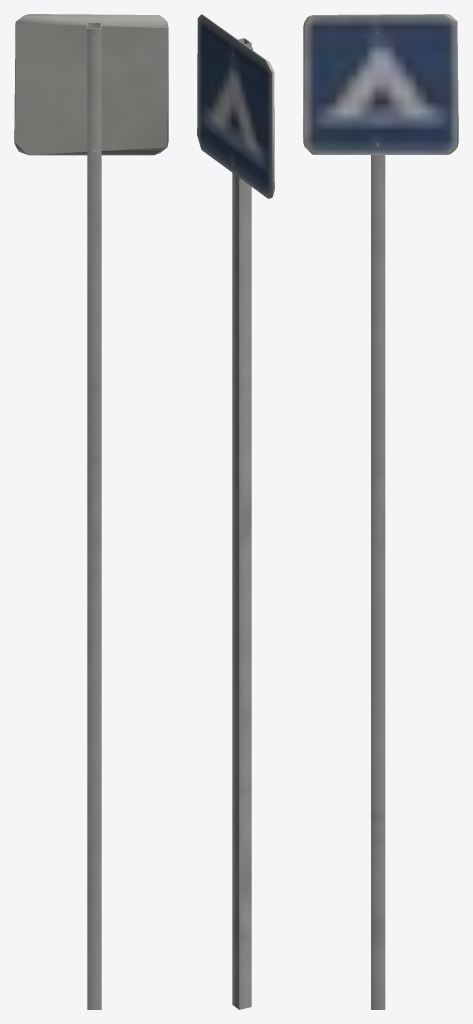
Rendered from sign-camping.lod1.glb.
3 renders of one model, left to right at view 1: azimuth 90°, elevation 25°; view 2: azimuth 210°, elevation 25°; view 3: azimuth 270°, elevation 25°, orthographic. The views are drawn at different scales.
Visible parts, largest first — view 1: kenping_LOW_POLY_sign_0; view 2: kenping_LOW_POLY_sign_0; view 3: kenping_LOW_POLY_sign_0.
Part boxes in pixels (bbox=[...]): kenping_LOW_POLY_sign_0: bbox=[14, 14, 168, 1009]; kenping_LOW_POLY_sign_0: bbox=[197, 14, 274, 1009]; kenping_LOW_POLY_sign_0: bbox=[303, 14, 458, 1009].
Bounding box in the file's own units: 0.0571 × 2.6 × 0.3675.
1 material, 1 textured.
